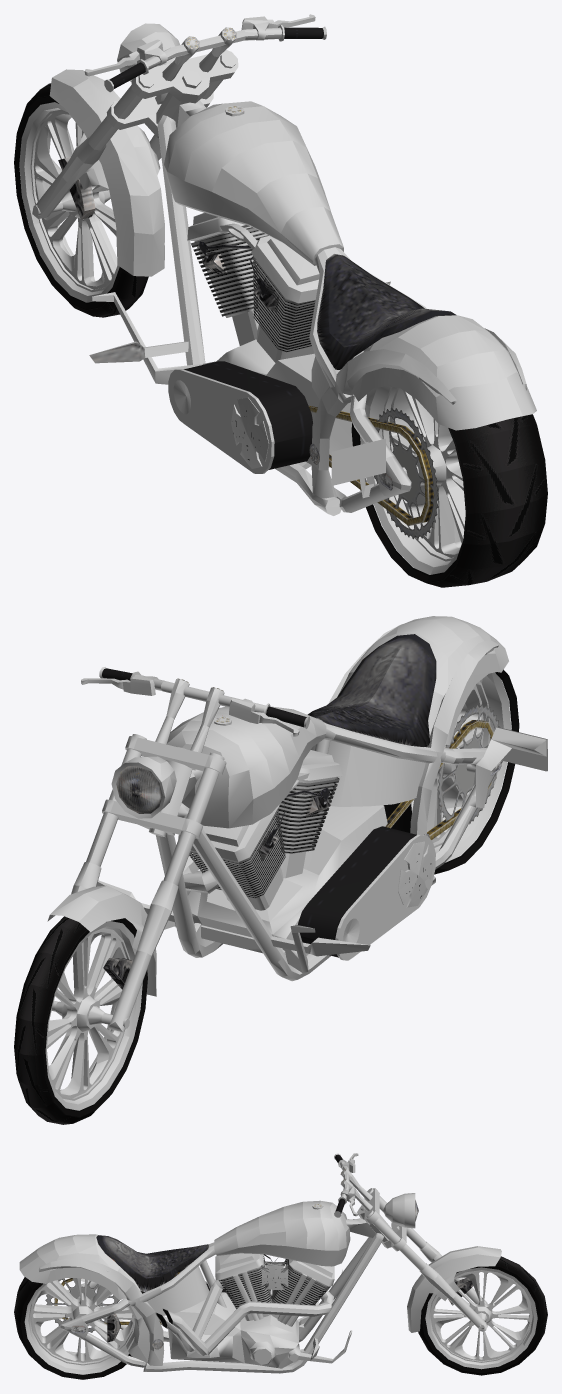
The model's file is MC3_VP_WCC_ELDIABLO_ST_00.glb.
The picture shows the model from 3 angles, top to bottom: view 1: azimuth 30°, elevation 25°; view 2: azimuth 150°, elevation 25°; view 3: azimuth 270°, elevation 25°; orthographic projection. The views are drawn at different scales.
Visible parts, largest first — view 1: frame_hlod.mesh, engine_hlod.mesh, whl_4_tire_0, fender_hlod.mesh, whl_2_rim_0, whl_4_rim_0, fork_hlod.mesh, bars_hlod.mesh, whl_2_tire_0, SprocketR.mesh, pPlane3.mesh, light_hlod.mesh (+1 smaller); view 2: frame_hlod.mesh, engine_hlod.mesh, whl_2_rim_0, fork_hlod.mesh, whl_2_tire_0, bars_hlod.mesh, whl_4_rim_0, fender_hlod.mesh, light_hlod.mesh, whl_4_tire_0, SprocketR.mesh, Exh_H.mesh; view 3: frame_hlod.mesh, engine_hlod.mesh, whl_4_rim_0, whl_2_rim_0, Exh_H.mesh, fork_hlod.mesh, whl_2_tire_0, fender_hlod.mesh, whl_4_tire_0, bars_hlod.mesh, light_hlod.mesh, SprocketR.mesh (+1 smaller).
Boxes of the visible parts, <box> form: frame_hlod.mesh: <box>89,92,536,515</box>; engine_hlod.mesh: <box>92,212,433,525</box>; whl_4_tire_0: <box>351,414,547,587</box>; fender_hlod.mesh: <box>49,69,164,276</box>; whl_2_rim_0: <box>19,102,119,302</box>; whl_4_rim_0: <box>360,386,465,574</box>; fork_hlod.mesh: <box>32,50,238,218</box>; bars_hlod.mesh: <box>84,14,326,92</box>; whl_2_tire_0: <box>14,83,148,317</box>; SprocketR.mesh: <box>374,407,438,539</box>; pPlane3.mesh: <box>331,438,385,485</box>; light_hlod.mesh: <box>117,23,179,104</box>; frame_hlod.mesh: <box>96,616,546,981</box>; engine_hlod.mesh: <box>164,720,493,972</box>; whl_2_rim_0: <box>45,921,142,1110</box>; fork_hlod.mesh: <box>71,734,226,1032</box>; whl_2_tire_0: <box>14,916,147,1124</box>; bars_hlod.mesh: <box>81,667,310,752</box>; whl_4_rim_0: <box>411,672,511,862</box>; fender_hlod.mesh: <box>47,885,156,996</box>; light_hlod.mesh: <box>111,756,176,818</box>; whl_4_tire_0: <box>383,669,519,874</box>; SprocketR.mesh: <box>437,704,500,824</box>; Exh_H.mesh: <box>182,852,219,893</box>; frame_hlod.mesh: <box>19,1200,394,1373</box>; engine_hlod.mesh: <box>54,1253,352,1368</box>; whl_4_rim_0: <box>24,1278,135,1374</box>; whl_2_rim_0: <box>425,1267,537,1369</box>; Exh_H.mesh: <box>155,1280,333,1355</box>; fork_hlod.mesh: <box>357,1188,487,1331</box>; whl_2_tire_0: <box>418,1256,547,1375</box>; fender_hlod.mesh: <box>407,1246,501,1332</box>; whl_4_tire_0: <box>14,1277,145,1379</box>; bars_hlod.mesh: <box>334,1153,372,1217</box>; light_hlod.mesh: <box>383,1193,418,1232</box>; SprocketR.mesh: <box>45,1278,119,1332</box>.
Size of the model in its own units: 0.973 by 1.13 by 2.73.
Materials: 17 (8 with a texture image).
